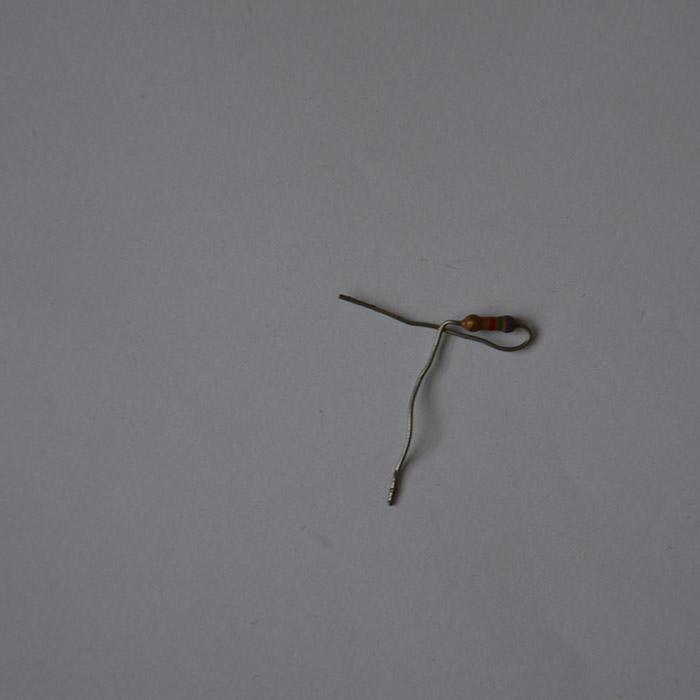resistor: (461, 313, 514, 333)
